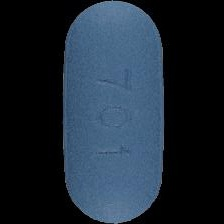52959-969: (0, 0, 224, 224)
